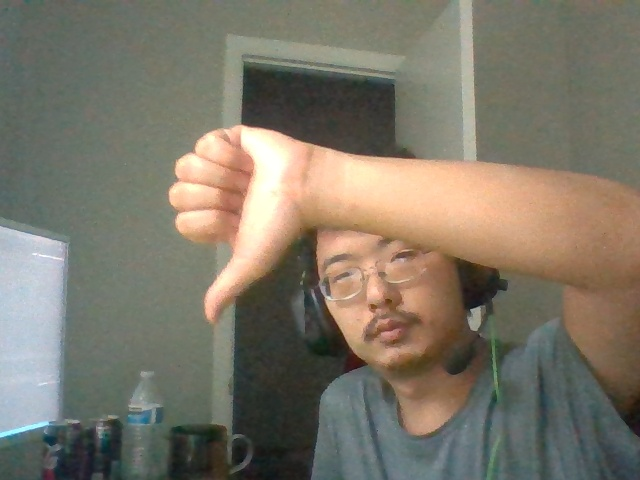ThumbsDown: (168, 124, 327, 323)
